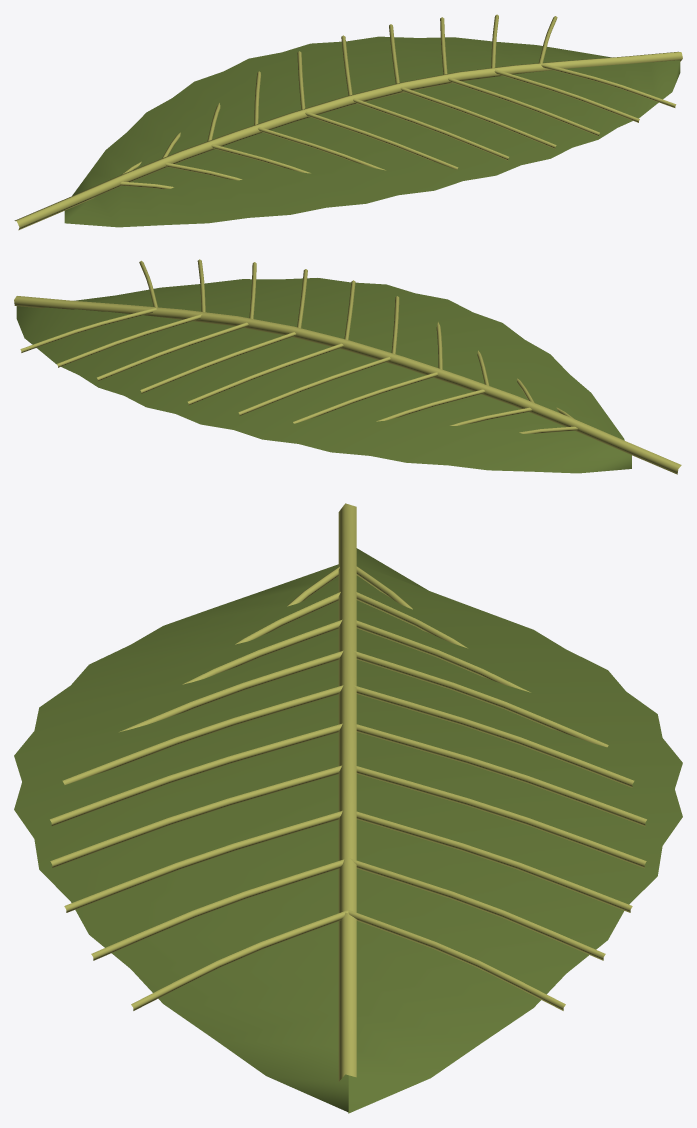
The model's file is leaf.glb.
3 views of the same model, one above another, from view 1: azimuth 30°, elevation 25°; view 2: azimuth 150°, elevation 25°; view 3: azimuth 270°, elevation 25° (orthographic). The views are drawn at different scales.
Parts seen in each view (by area): view 1: leaf; view 2: leaf; view 3: leaf.
Boxes of the visible parts, <box> form: leaf: <box>14,14,682,230</box>; leaf: <box>14,259,681,474</box>; leaf: <box>14,503,682,1113</box>.
Bounding box in the file's own units: 2.07 × 0.1759 × 1.
